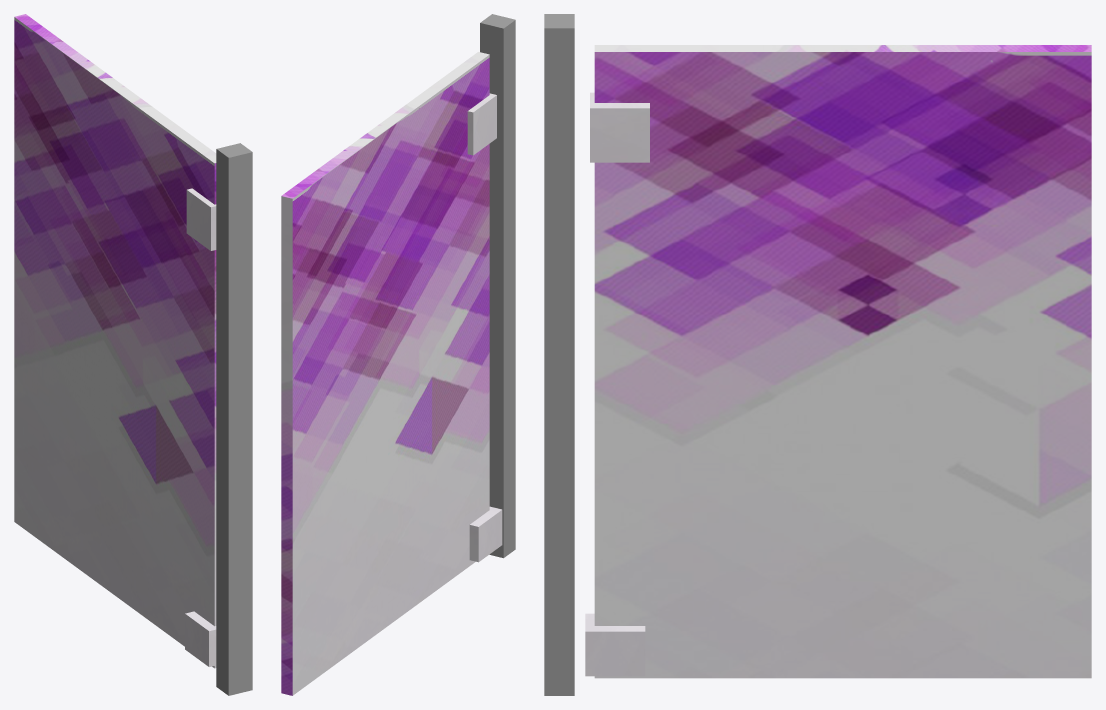
The model's file is door.fbx.
The picture shows the model from 3 angles, left to right: view 1: azimuth 30°, elevation 25°; view 2: azimuth 150°, elevation 25°; view 3: azimuth 270°, elevation 25°; orthographic projection. The views are drawn at different scales.
Visible parts, largest first — view 1: pCube5, pCube2; view 2: pCube5, pCube2; view 3: pCube5, pCube2.
Boxes of the visible parts, bbox=[...] form: pCube5: bbox=[14, 14, 216, 668]; pCube2: bbox=[216, 143, 252, 695]; pCube5: bbox=[281, 52, 502, 695]; pCube2: bbox=[480, 14, 515, 558]; pCube5: bbox=[585, 45, 1091, 678]; pCube2: bbox=[544, 14, 574, 695].
Size of the model in its own units: 0.5417 by 9.3 by 6.92.
2 materials, 1 textured.
